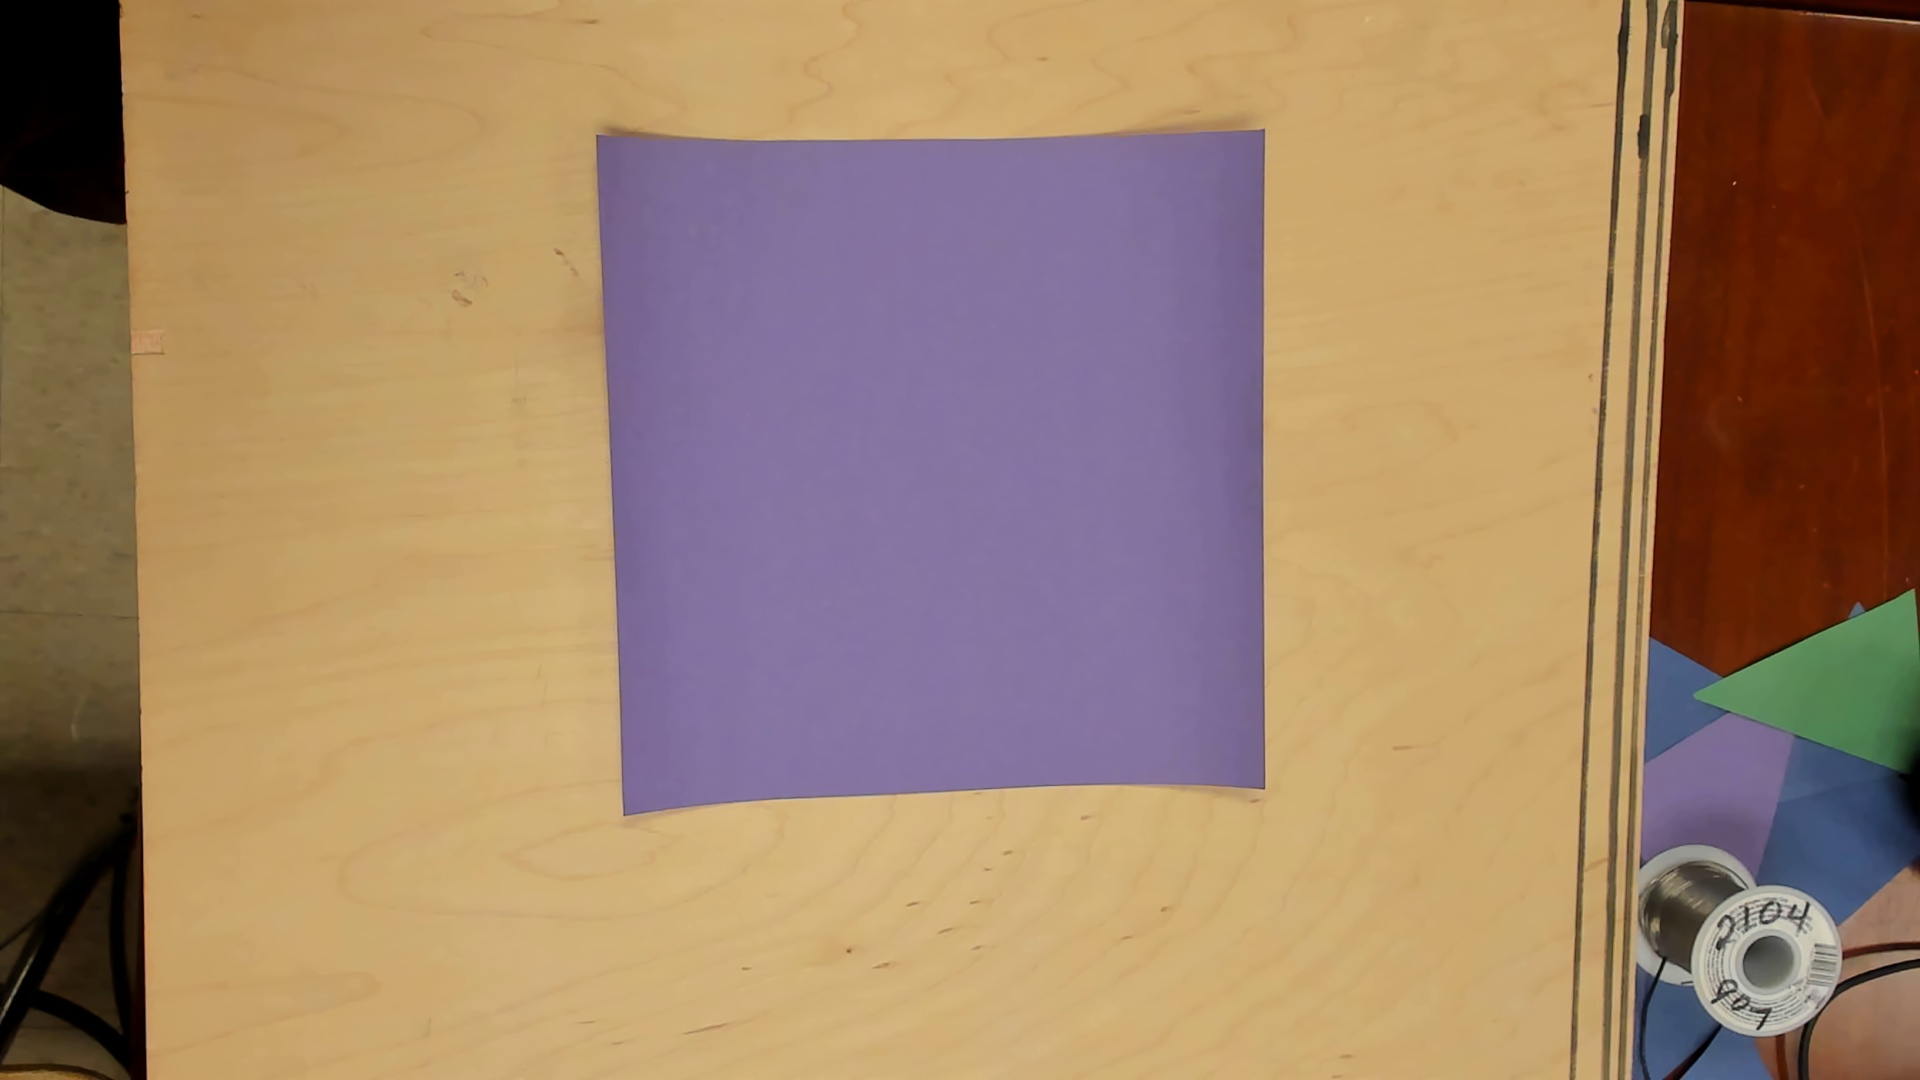PS: (592, 127, 1279, 819)
